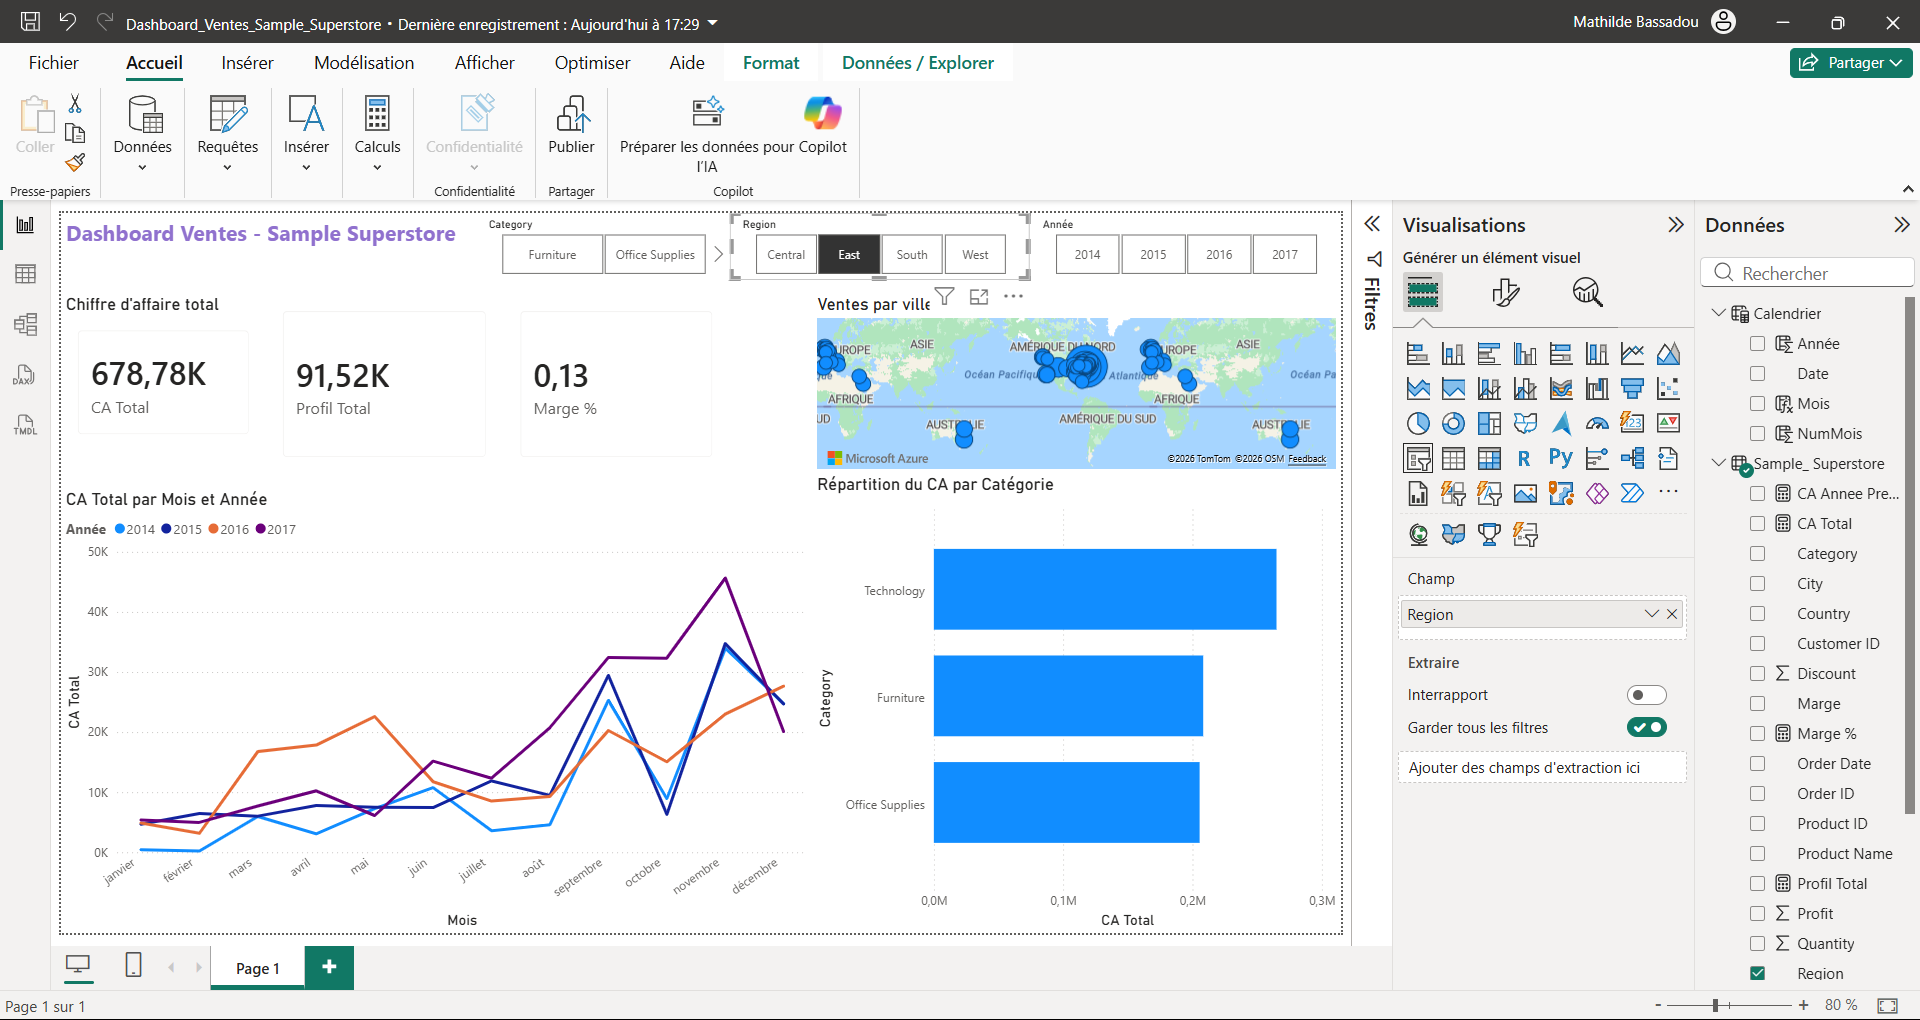

The page's visual inventory and layout, read from the dashboard file:
{"tool":"powerbi","page":{"name":"Page 1","canvas":[1280,720],"ordinal":0},"visuals":[{"type":"cardVisual","title":"Chiffre d''affaire total","fields":{"Data":["Sample_ Superstore.CA Total"]},"box":[0,81.2,205,157.5],"z":1},{"type":"lineChart","fields":{"Y":["Sample_ Superstore.CA Total"],"Series":["Calendrier.Année"],"Category":["Calendrier.Mois"]},"box":[0,276.2,751.2,443.8],"z":2},{"type":"clusteredBarChart","title":"Répartition du CA par Catégorie","fields":{"Y":["Sample_ Superstore.CA Total"],"Category":["Sample_ Superstore.Category"]},"box":[751.2,261.2,528.8,458.8],"z":3},{"type":"azureMap","title":"Ventes par ville","fields":{"Size":["Sample_ Superstore.CA Total"],"Category":["Sample_ Superstore.City"]},"box":[751.2,81.2,528.8,180],"z":4},{"type":"cardVisual","fields":{"Data":["Sample_ Superstore.Profil Total"]},"box":[205,81.2,237.5,180],"z":5},{"type":"cardVisual","fields":{"Data":["Sample_ Superstore.Marge %"]},"box":[442.5,81.2,226.2,180],"z":6},{"type":"textbox","box":[0,0,415,53.8],"z":7},{"type":"slicer","fields":{"Values":["Calendrier.Année"]},"box":[968.8,0,311.2,67.5],"z":8},{"type":"slicer","fields":{"Values":["Sample_ Superstore.Region"]},"box":[668.8,0,300,67.5],"z":9},{"type":"slicer","fields":{"Values":["Sample_ Superstore.Category"]},"box":[415,0,253.8,67.5],"z":10}]}

Visuals, with their boxes on the page's 1280x720 design canvas (x1, y1, x2, y2). These are canvas units, not pixel positions in the 1920x1020 screenshot, which may show the page scaled, cropped or inside an application window:
"Chiffre d''affaire total" cardVisual: [0,81,205,239]
lineChart - Sample_ Superstore.CA Total x Calendrier.Année: [0,276,751,720]
"Répartition du CA par Catégorie" clusteredBarChart: [751,261,1280,720]
"Ventes par ville" azureMap: [751,81,1280,261]
cardVisual - Sample_ Superstore.Profil Total: [205,81,442,261]
cardVisual - Sample_ Superstore.Marge %: [442,81,669,261]
textbox: [0,0,415,54]
slicer - Calendrier.Année: [969,0,1280,68]
slicer - Sample_ Superstore.Region: [669,0,969,68]
slicer - Sample_ Superstore.Category: [415,0,669,68]
